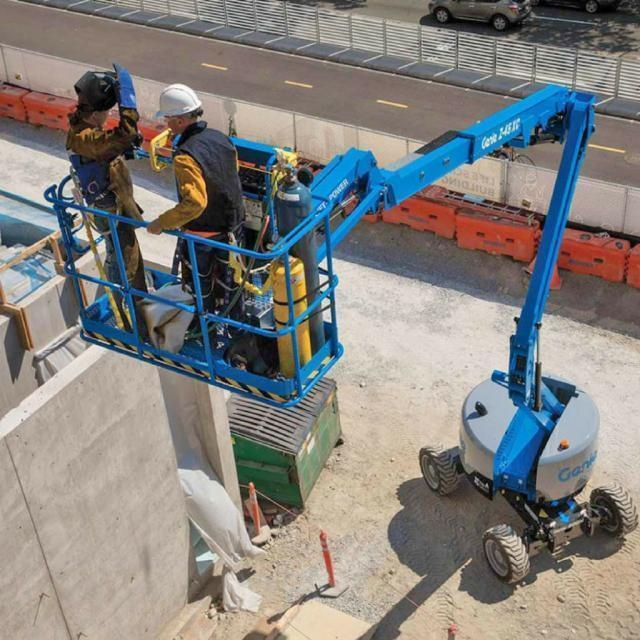Arnes_seguridad: (63, 139, 134, 243), (178, 220, 242, 298)
